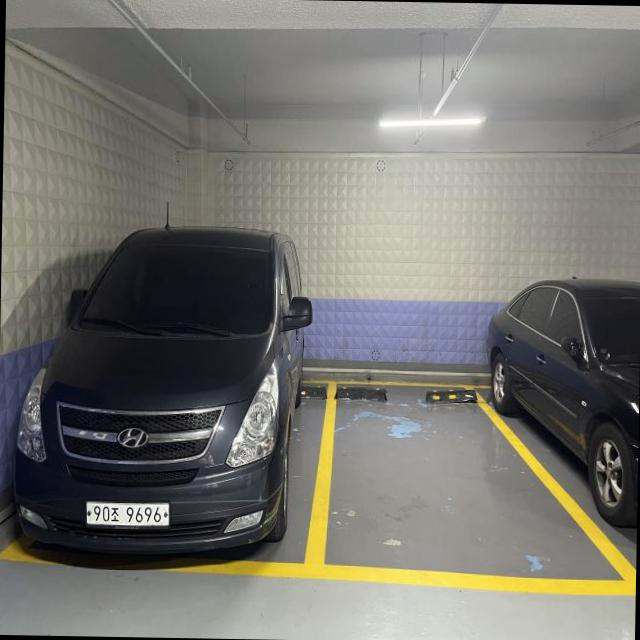car: (3, 198, 318, 576)
free: (311, 379, 598, 593)
